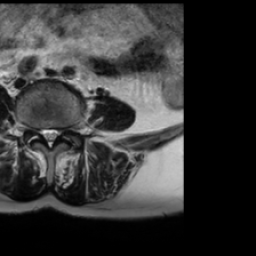CCS_normal: (46, 121, 53, 155)
LFS_severe_stenosis: (61, 120, 69, 143)
LLS_stenosis: (53, 122, 61, 144)
RFS_severe_stenosis: (31, 117, 38, 140)
RLS_stenosis: (38, 121, 46, 143)
